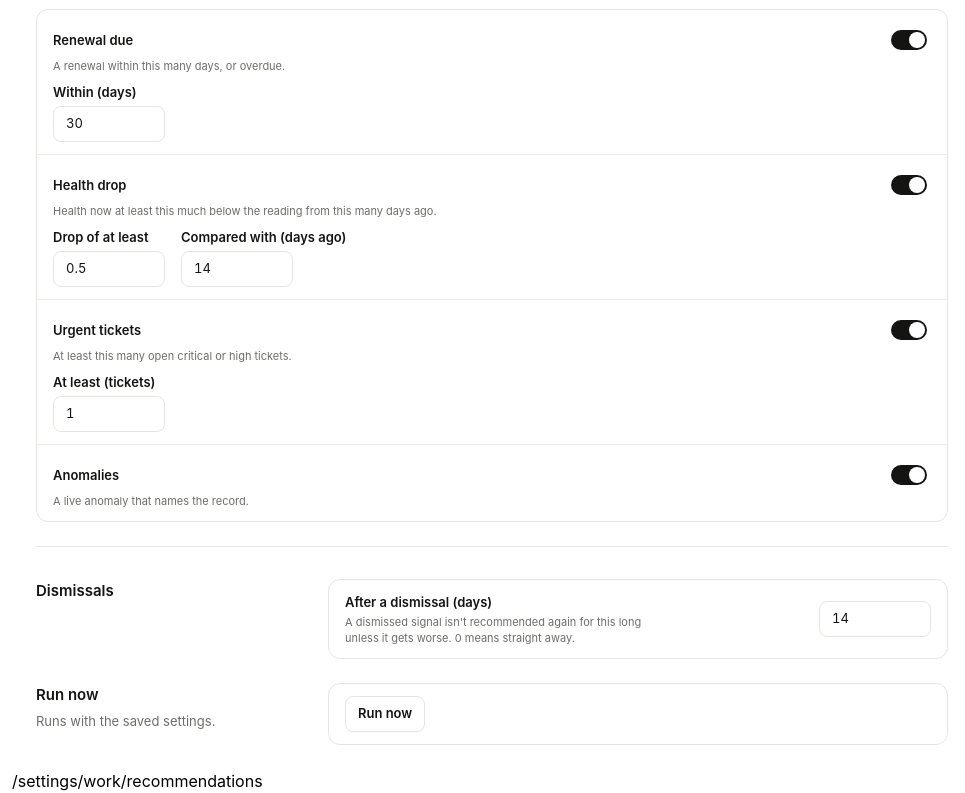
Test: Settings › Work › Recommendations (spec §2.4; Decisions 10 to 12) › runs the recommender now, says what it did, and tells Work
(page scrolled)
Click the button "Run now".
click(385, 714)  # box [345, 696, 425, 732]
(page scrolled)
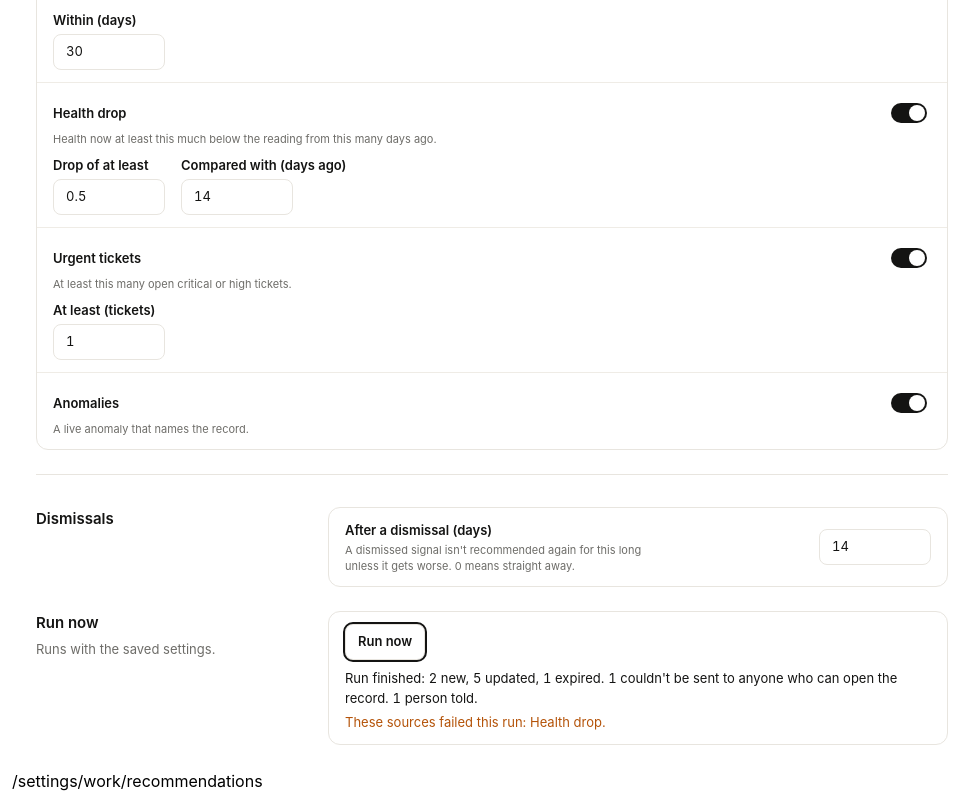
Expected: the text "Run finished" shows "Run finished: 2 new, 5 updated, 1 expired. 1 couldn't be sent to anyone who can open the record. 1 person told.", [345, 670, 897, 706]
Expected: the text "These sources failed this run: Health drop." is shown, [345, 714, 606, 730]
